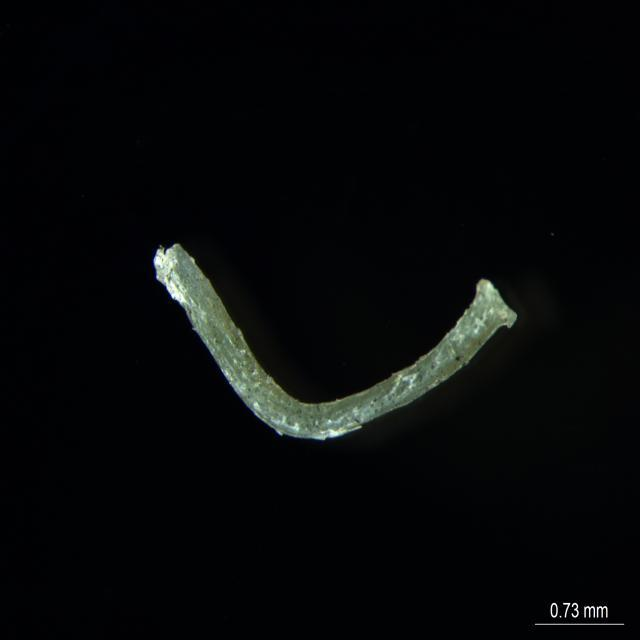fibers: (135, 241, 521, 461)
